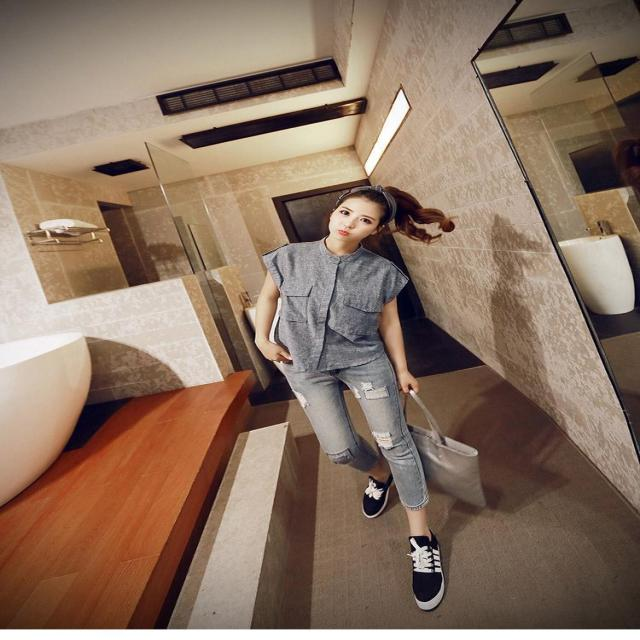short-sleeve-top: (265, 241, 418, 385)
trousers: (263, 401, 485, 514)
